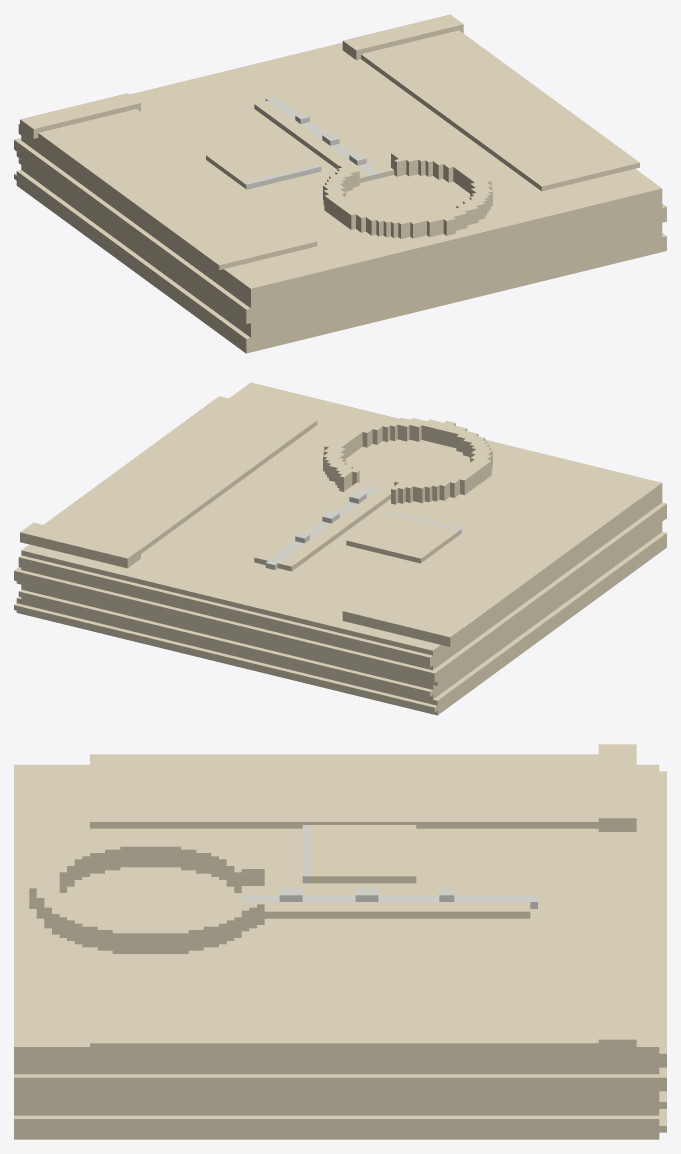
File: thawb.glb
3 views of the same model, one above another, from view 1: azimuth 30°, elevation 25°; view 2: azimuth 150°, elevation 25°; view 3: azimuth 270°, elevation 25° (orthographic). The views are drawn at different scales.
Visible parts, largest first — view 1: thawb:compound; view 2: thawb:compound; view 3: thawb:compound.
Boxes of the visible parts, x1,y1,x2,y2 form: thawb:compound: (14, 14, 666, 353); thawb:compound: (14, 382, 666, 715); thawb:compound: (14, 744, 666, 1139).
Bounding box in the file's own units: 0.368 × 0.064 × 0.344.
